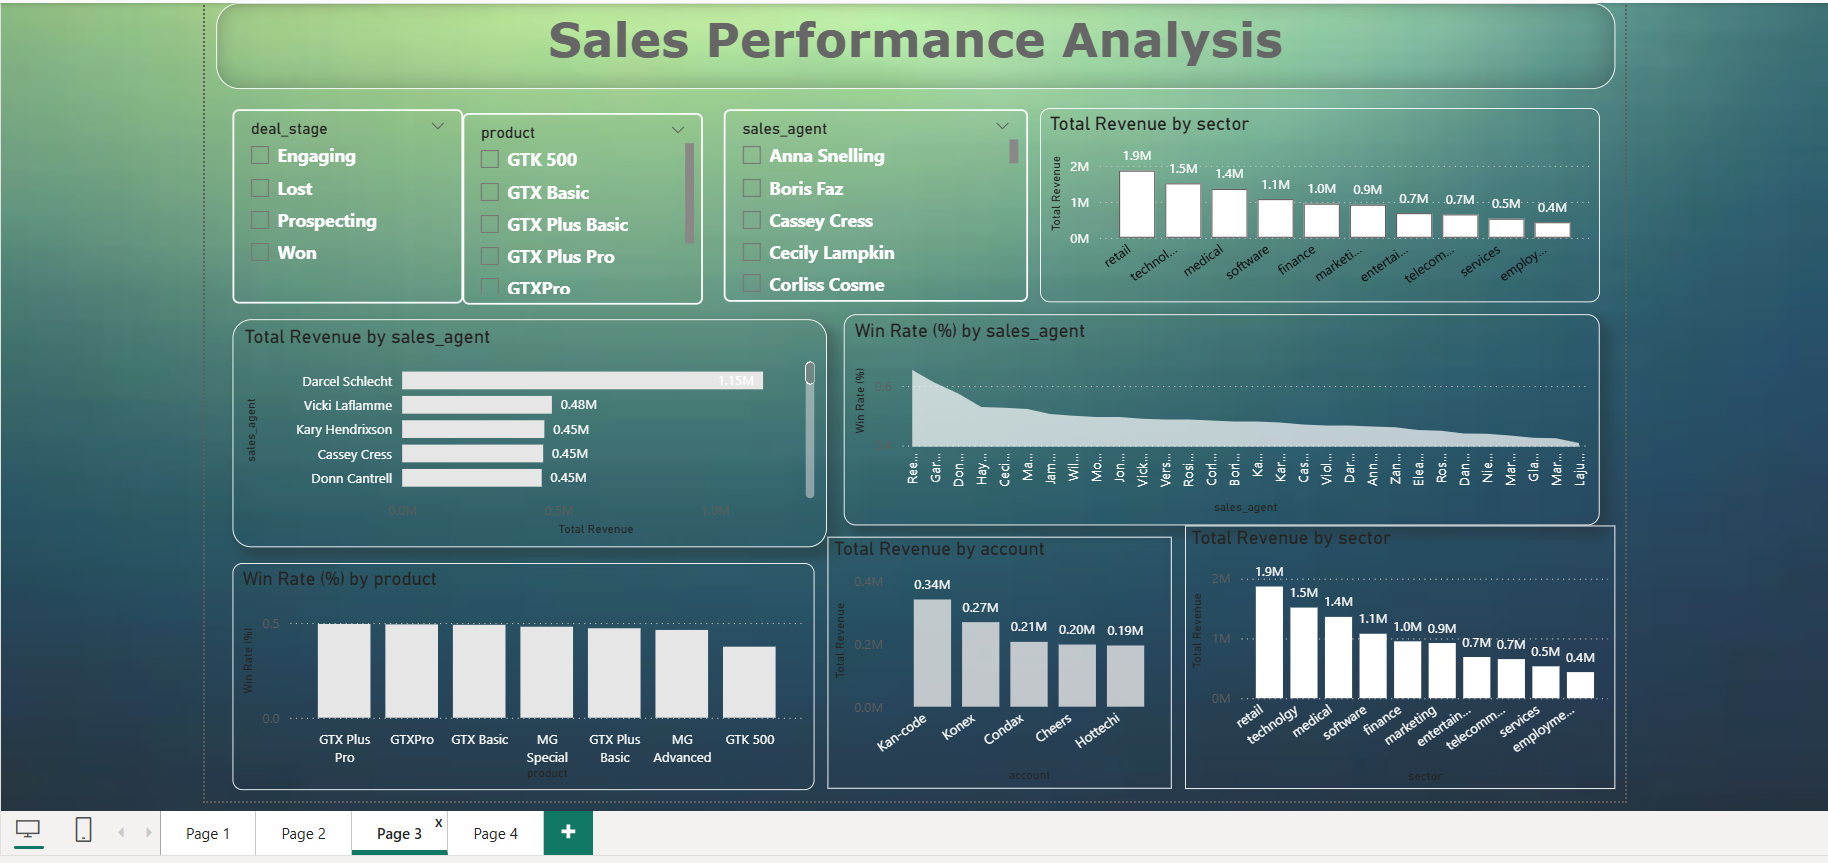

This screenshot's page, from the dashboard's own definition file:
{"tool":"powerbi","page":{"name":"Page 3","canvas":[1280,720],"ordinal":2},"visuals":[{"type":"textbox","box":[9.7,0,1261.9,77.9],"z":0},{"type":"slicer","fields":{"Values":["sales_pipeline2.deal_stage"]},"box":[24.5,95.4,207.9,174.9],"z":1000},{"type":"clusteredBarChart","fields":{"Category":["sales_pipeline2.sales_agent"],"Y":["sales_pipeline2.Total Revenue"]},"box":[25,285.2,535.7,205.9],"z":2000},{"type":"slicer","fields":{"Values":["sales_pipeline2.product"]},"box":[232.3,98.8,217,172.5],"z":3000},{"type":"slicer","fields":{"Values":["sales_pipeline2.sales_agent"]},"box":[467.5,96,274.1,173.9],"z":4000},{"type":"clusteredColumnChart","fields":{"Category":["sales_pipeline2.product"],"Y":["sales_pipeline2.Win Rate (%)"]},"box":[25,505,524.5,204.5],"z":5000},{"type":"areaChart","fields":{"Category":["sales_pipeline2.sales_agent"],"Y":["sales_pipeline2.Win Rate (%)"]},"box":[576,281,681.7,190.6],"z":6000},{"type":"columnChart","fields":{"Category":["accounts4.sector"],"Y":["sales_pipeline2.Total Revenue"]},"box":[883.5,471.7,388.2,237.9],"z":7000},{"type":"columnChart","fields":{"Category":["accounts4.sector"],"Y":["sales_pipeline2.Total Revenue"]},"box":[752.7,94.6,505,175.3],"z":8000},{"type":"clusteredColumnChart","fields":{"Category":["sales_pipeline2.account"],"Y":["sales_pipeline2.Total Revenue"]},"box":[561.3,481.8,310.6,227.4],"z":9000}]}

Visuals, with their boxes on the page's 1280x720 design canvas (x1, y1, x2, y2). These are canvas units, not pixel positions in the 1828x863 screenshot, which may show the page scaled, cropped or inside an application window:
textbox: left=10, top=0, right=1272, bottom=78
slicer - sales_pipeline2.deal_stage: left=24, top=95, right=232, bottom=270
clusteredBarChart - sales_pipeline2.sales_agent x sales_pipeline2.Total Revenue: left=25, top=285, right=561, bottom=491
slicer - sales_pipeline2.product: left=232, top=99, right=449, bottom=271
slicer - sales_pipeline2.sales_agent: left=468, top=96, right=742, bottom=270
clusteredColumnChart - sales_pipeline2.product x sales_pipeline2.Win Rate (%): left=25, top=505, right=550, bottom=710
areaChart - sales_pipeline2.sales_agent x sales_pipeline2.Win Rate (%): left=576, top=281, right=1258, bottom=472
columnChart - accounts4.sector x sales_pipeline2.Total Revenue: left=884, top=472, right=1272, bottom=710
columnChart - accounts4.sector x sales_pipeline2.Total Revenue: left=753, top=95, right=1258, bottom=270
clusteredColumnChart - sales_pipeline2.account x sales_pipeline2.Total Revenue: left=561, top=482, right=872, bottom=709
